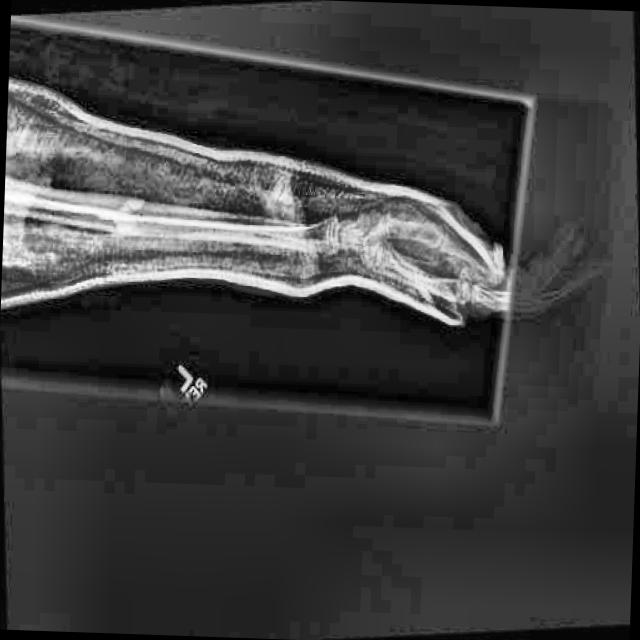forearm fracture: (88, 179, 180, 268)
